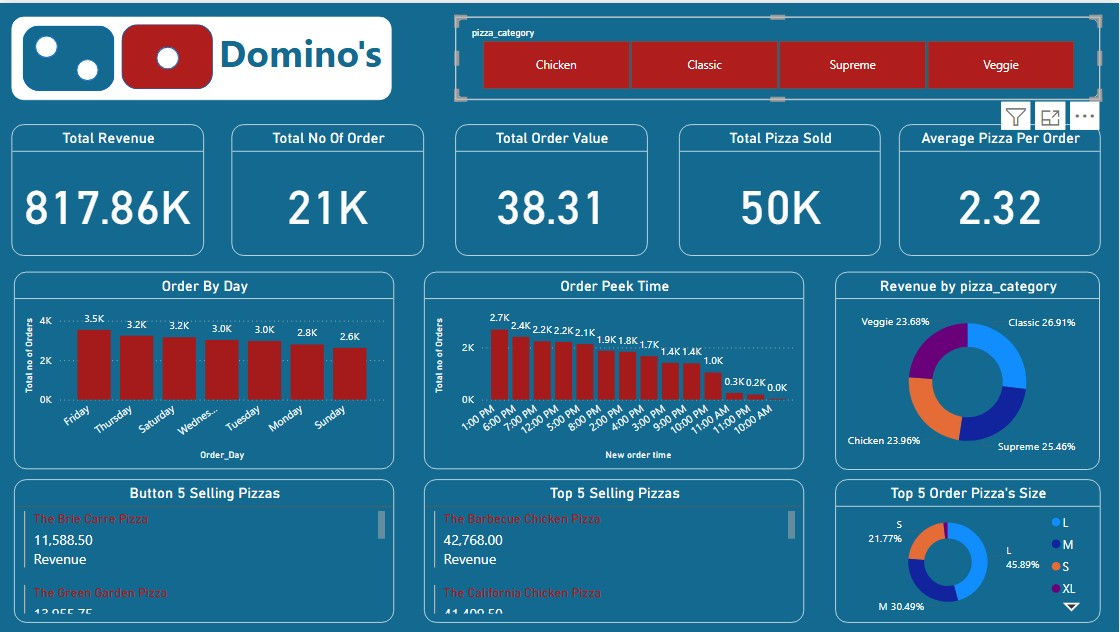

The page's visual inventory and layout, read from the dashboard file:
{"tool":"powerbi","page":{"name":"Page 1","canvas":[1280,720],"ordinal":0},"visuals":[{"type":"card","title":"Total Revenue","fields":{"Values":["Pizza measureTable.Revenue"]},"box":[14.7,138.7,220,150.7],"z":0},{"type":"card","title":"Total No Of Order","fields":{"Values":["Pizza measureTable.Total no of Orders"]},"box":[265.3,138.7,220,150.7],"z":1000},{"type":"card","title":"Total Order Value","fields":{"Values":["Pizza measureTable.Average Order Value"]},"box":[521.3,138.7,220,150.7],"z":2000},{"type":"card","title":"Total Pizza Sold","fields":{"Values":["Pizza measureTable.Total Pizza Sold"]},"box":[777.3,138.7,230.7,150.7],"z":3000},{"type":"card","title":"Average Pizza Per Order","fields":{"Values":["Pizza measureTable.Average Pizza Per Order"]},"box":[1028,138.7,230.7,150.7],"z":4000},{"type":"columnChart","title":"Order By Day","fields":{"Category":["Domino's.Order_Day"],"Y":["Pizza measureTable.Total no of Orders"]},"box":[17.3,306.7,434.7,225.3],"z":5000},{"type":"columnChart","title":"Order Peek Time","fields":{"Y":["Pizza measureTable.Total no of Orders"],"Category":["Domino's.New order time"]},"box":[485.3,306.7,434.7,225.3],"z":6000},{"type":"donutChart","fields":{"Category":["Domino's.pizza_category"],"Y":["Pizza measureTable.Revenue"]},"box":[956,306.7,302.7,226.7],"z":7000},{"type":"multiRowCard","title":"Button 5 Selling Pizzas","fields":{"Values":["Domino's.pizza_name","Pizza measureTable.Revenue"]},"box":[17.3,544,434.7,164],"z":8000},{"type":"multiRowCard","title":"Top 5 Selling Pizzas","fields":{"Values":["Domino's.pizza_name","Pizza measureTable.Revenue"]},"box":[485.3,544,434.7,164],"z":9000},{"type":"donutChart","title":"Top 5 Order Pizza''s Size","fields":{"Category":["Domino's.pizza_size"],"Y":["Pizza measureTable.Revenue"]},"box":[955.5,544.1,302.8,164.1],"z":10000},{"type":"slicer","fields":{"Values":["Domino's.pizza_category"]},"box":[521.2,15.7,737.1,95.3],"z":11000},{"type":"textbox","box":[14.5,15.7,434.3,95.3],"z":12000},{"type":"shape","box":[27.7,25.3,105,75],"z":13000},{"type":"shape","box":[139.9,24.1,105,74.8],"z":14000},{"type":"shape","box":[41,37.4,25.3,25.3],"z":15000},{"type":"shape","box":[89.3,63.9,25.3,25],"z":16000},{"type":"shape","box":[179.8,49.5,25.3,25.3],"z":16001}]}

Visuals, with their boxes in screenshot pixels (x1, y1, x2, y2), scaled from the page's 1280x720 canvas onto the 1120x632 screenshot:
"Total Revenue" card: select_region(13, 122, 205, 254)
"Total No Of Order" card: select_region(232, 122, 425, 254)
"Total Order Value" card: select_region(456, 122, 649, 254)
"Total Pizza Sold" card: select_region(680, 122, 882, 254)
"Average Pizza Per Order" card: select_region(900, 122, 1101, 254)
"Order By Day" columnChart: select_region(15, 269, 396, 467)
"Order Peek Time" columnChart: select_region(425, 269, 805, 467)
donutChart - Domino's.pizza_category x Pizza measureTable.Revenue: select_region(836, 269, 1101, 468)
"Button 5 Selling Pizzas" multiRowCard: select_region(15, 478, 396, 621)
"Top 5 Selling Pizzas" multiRowCard: select_region(425, 478, 805, 621)
"Top 5 Order Pizza''s Size" donutChart: select_region(836, 478, 1101, 622)
slicer - Domino's.pizza_category: select_region(456, 14, 1101, 97)
textbox: select_region(13, 14, 393, 97)
shape: select_region(24, 22, 116, 88)
shape: select_region(122, 21, 214, 87)
shape: select_region(36, 33, 58, 55)
shape: select_region(78, 56, 100, 78)
shape: select_region(157, 43, 179, 66)
